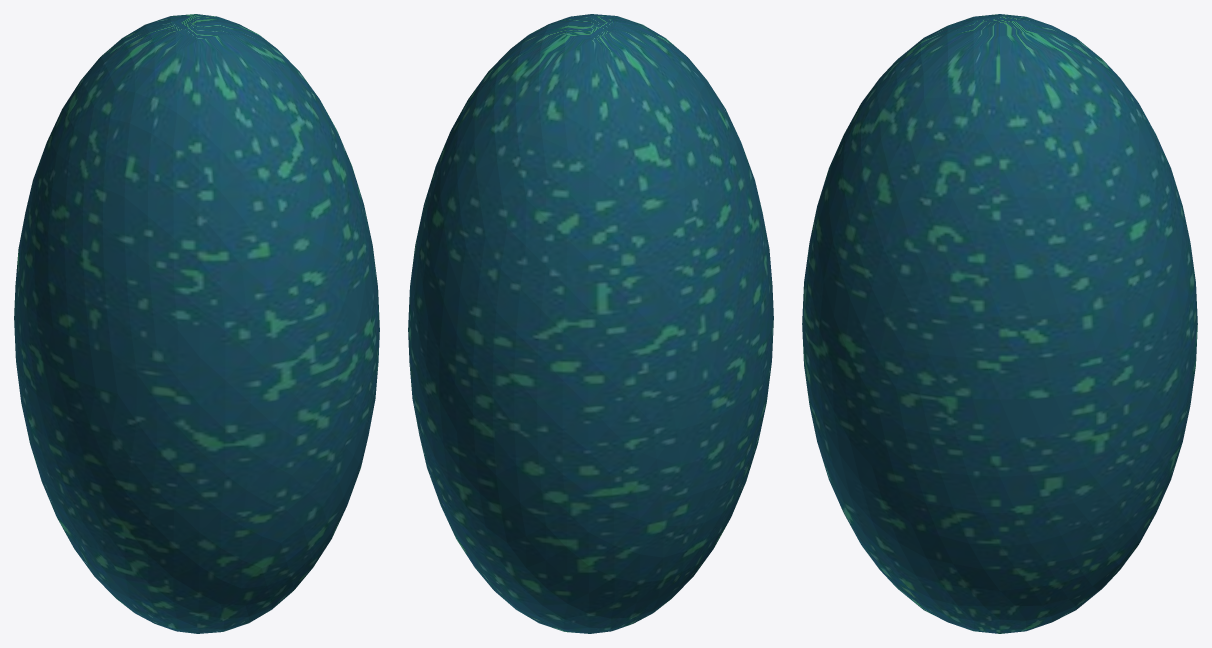
3 renders of one model, left to right at view 1: azimuth 30°, elevation 25°; view 2: azimuth 150°, elevation 25°; view 3: azimuth 270°, elevation 25°, orthographic.
Visible parts, largest first — view 1: geometry_0; view 2: geometry_0; view 3: geometry_0.
Boxes of the visible parts, bbox=[...] form: geometry_0: bbox=[14, 14, 379, 633]; geometry_0: bbox=[408, 14, 773, 633]; geometry_0: bbox=[802, 14, 1197, 633].
Size of the model in its own units: 1.12 by 2.08 by 1.24.
Materials: 1 (1 with a texture image).
